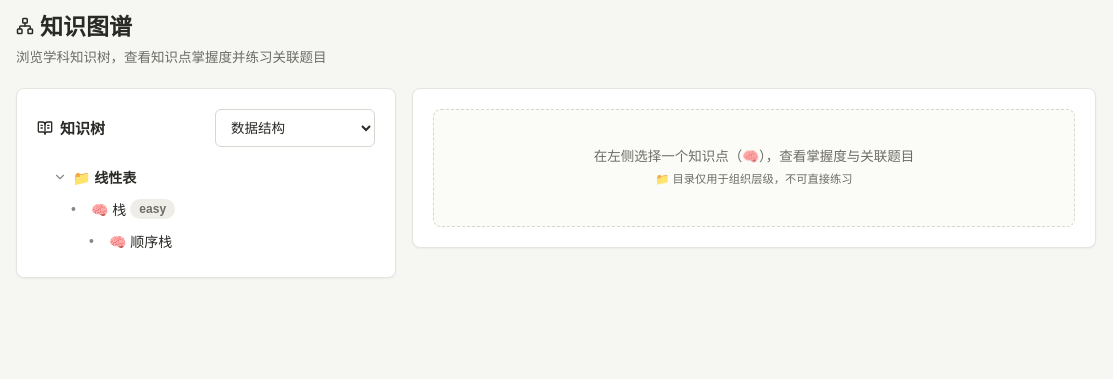
KnowledgeExploreView › 未作答过的知识点掌握度按空态处理（不报错）
The image size is (1113, 379).
Click the button with class "tree-btn" showing "🧠 栈 easy": (109, 210) [63,193,375,225]
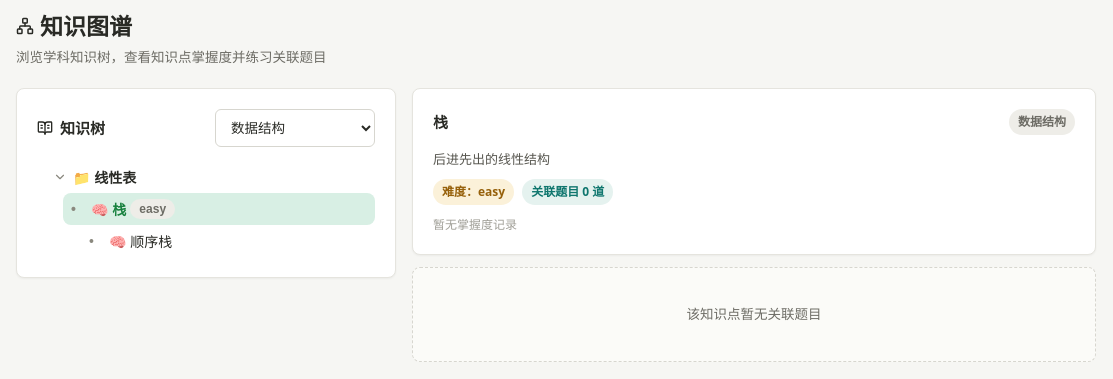
Expected: the text "暂无掌握度记录" is shown, [433,216,517,232]
